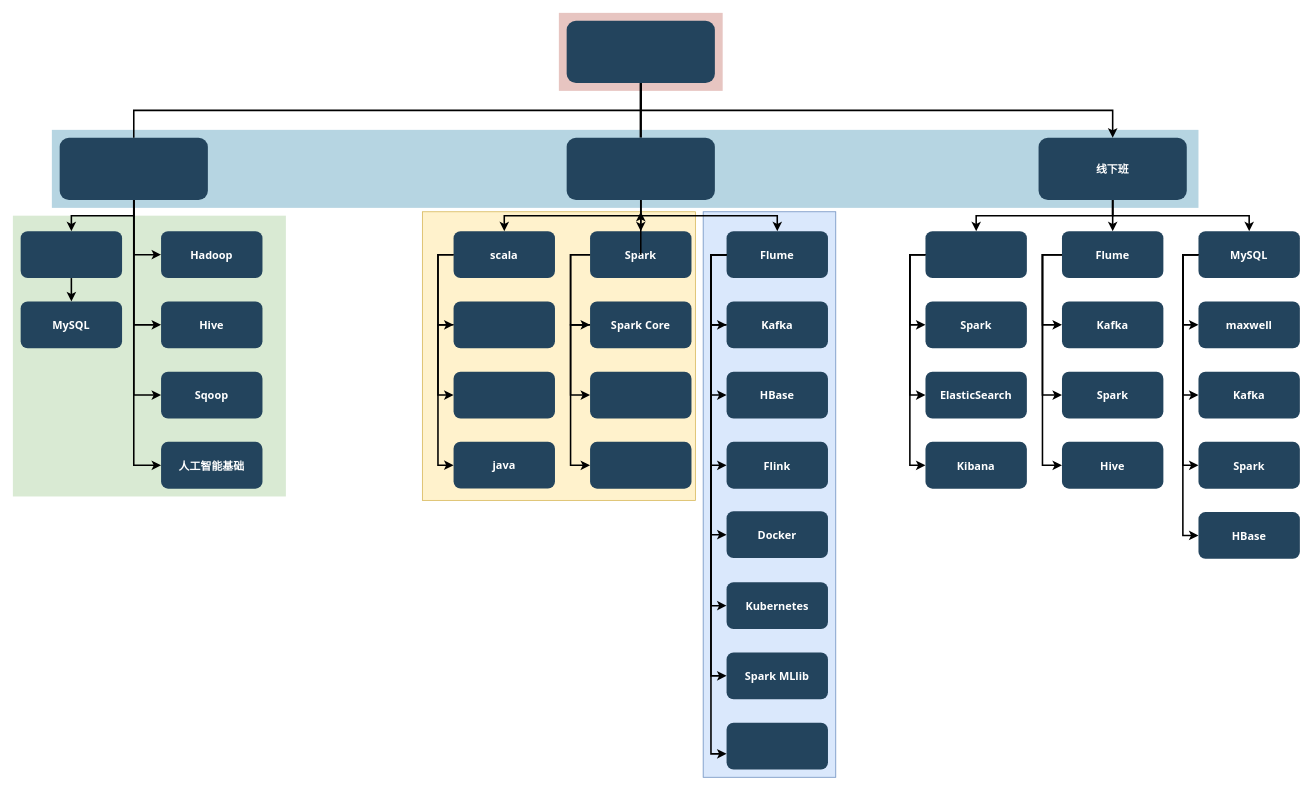
This 1313x790 diagram has some shape labels left out. Here are the shapes that lost their labels. From the top down, the box of each, then its label:
(566, 20, 714, 83): 若泽数据 课程一览
(59, 137, 207, 200): 基础班
(566, 137, 714, 200): 高级班
(20, 231, 122, 278): Linux
(925, 231, 1026, 278): Spring Boot
(453, 301, 555, 348): Hadoop高级
(453, 371, 555, 418): Hive高级
(590, 371, 691, 418): Spark SQL
(590, 441, 691, 488): Spark Streaming
(726, 722, 828, 769): CDH&Azkaban
